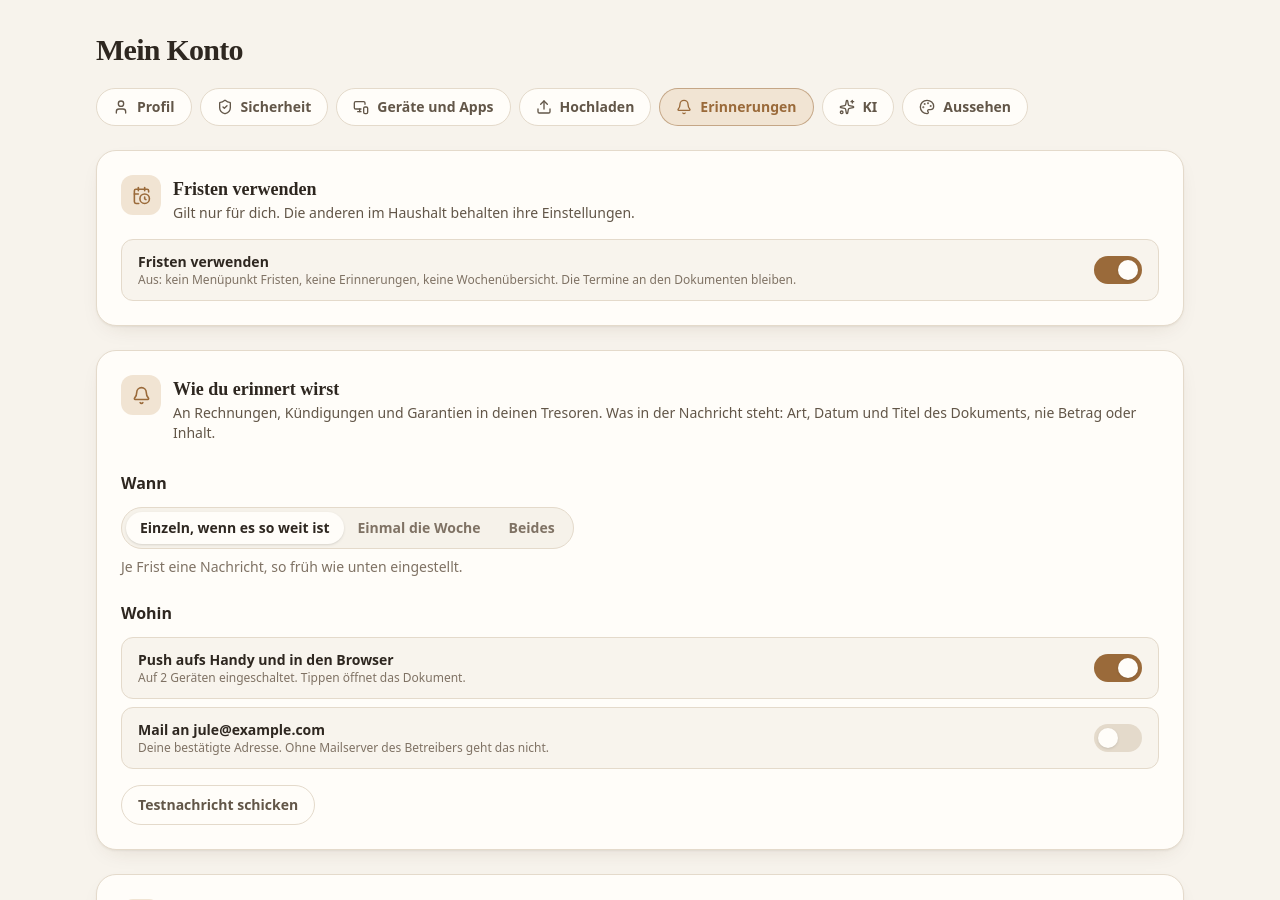
my account, reminders › shows a refused change with its reason and the choices as they stand
Click the switch named "Mail an jule@example.com": (1118, 738) top-left (1094, 724), bottom-right (1142, 752)
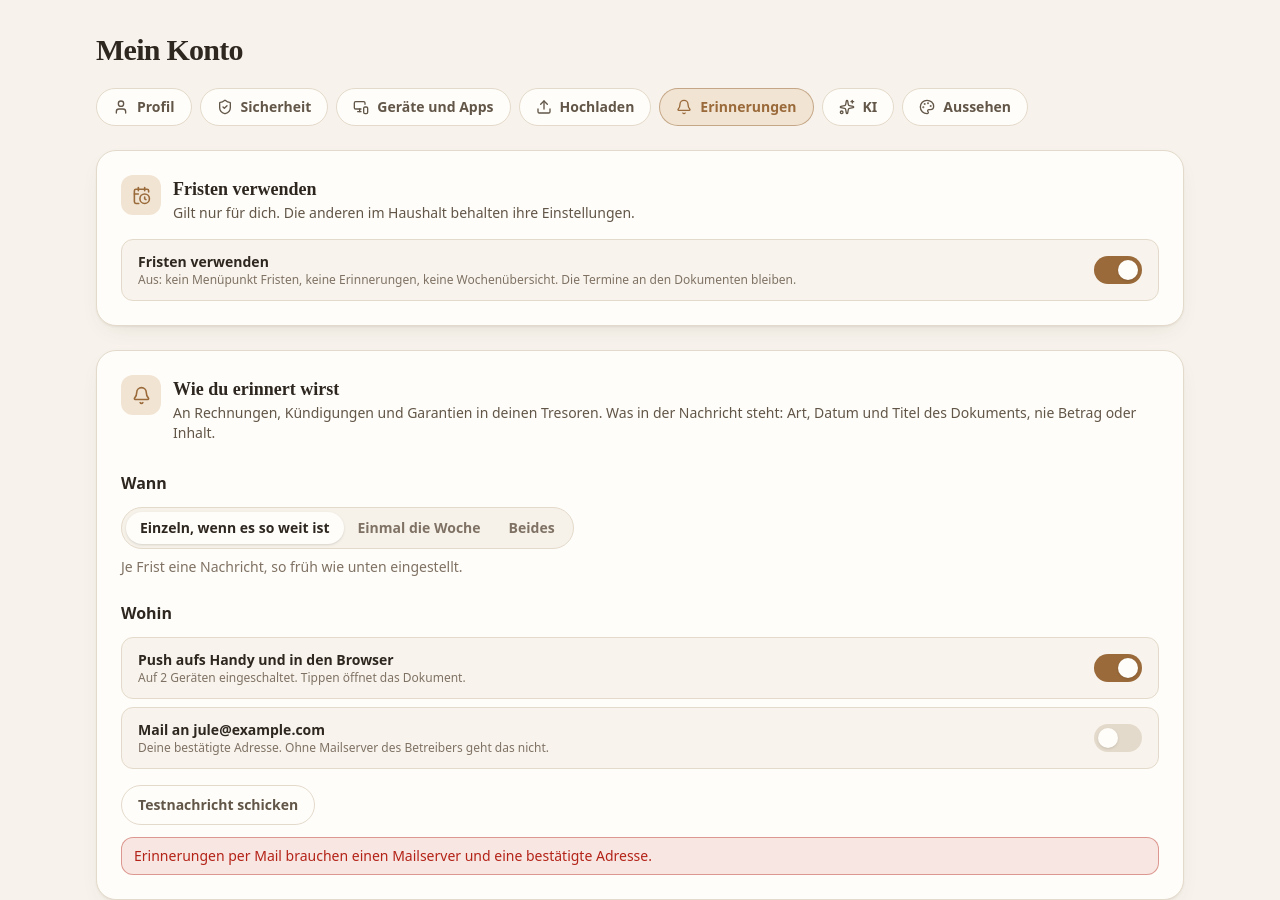
Now the text "Erinnerungen per Mail brauchen einen Mailserver und eine bestätigte Adresse." is shown, box top-left (121, 837), bottom-right (1159, 875)
